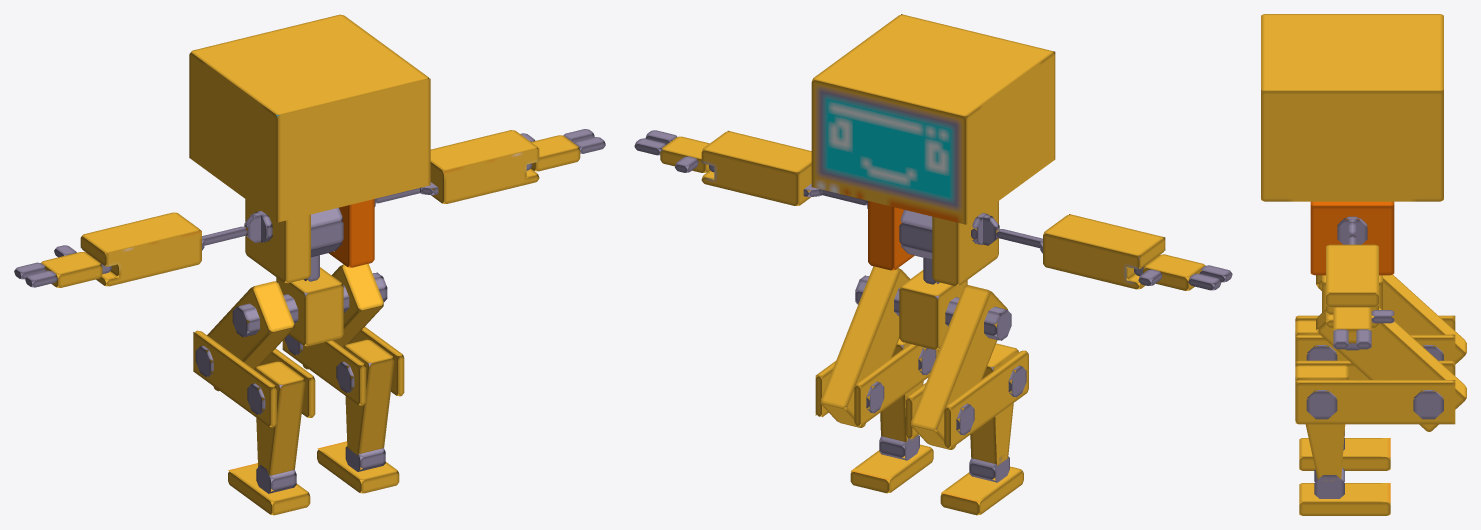
The model's file is robot.obj.
3 views of the same model, side by side, from view 1: azimuth 30°, elevation 25°; view 2: azimuth 150°, elevation 25°; view 3: azimuth 270°, elevation 25° (orthographic). The views are drawn at different scales.
Visible parts, largest first — view 1: cuboid, cylinder; view 2: cuboid, cylinder; view 3: cuboid, cylinder.
Part boxes in pixels (box(x1,y1,x2,y2)): cuboid: box(14, 14, 605, 515); cylinder: box(195, 182, 438, 493); cuboid: box(634, 14, 1232, 515); cylinder: box(803, 184, 1042, 482); cuboid: box(1261, 14, 1466, 515); cylinder: box(1306, 216, 1443, 498).
Bounding box in the file's own units: 5.62 × 3.91 × 1.69.
Materials: 1 (1 with a texture image).
